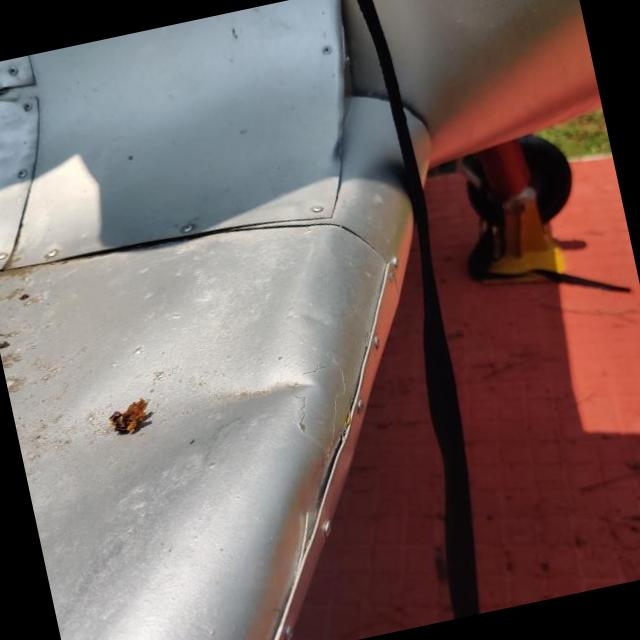Crack: (0, 73, 39, 110)
Dent: (197, 344, 323, 445)
